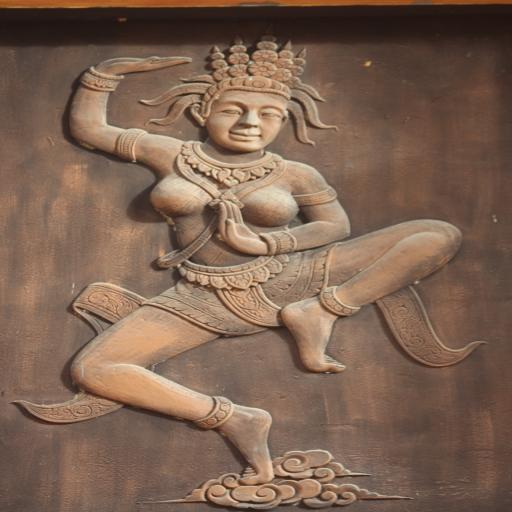than: (29, 37, 471, 490)
